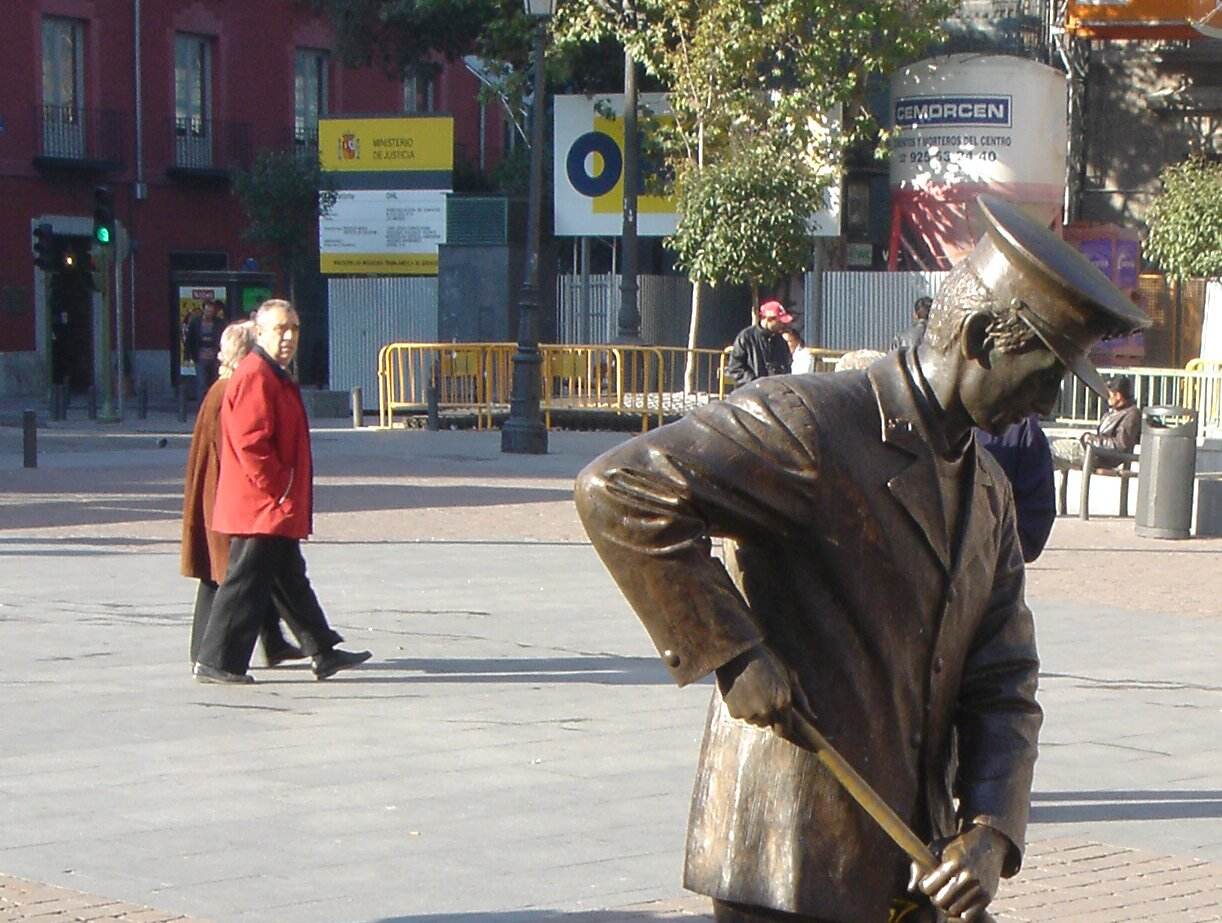person: (193, 297, 390, 689), (730, 300, 804, 385)
